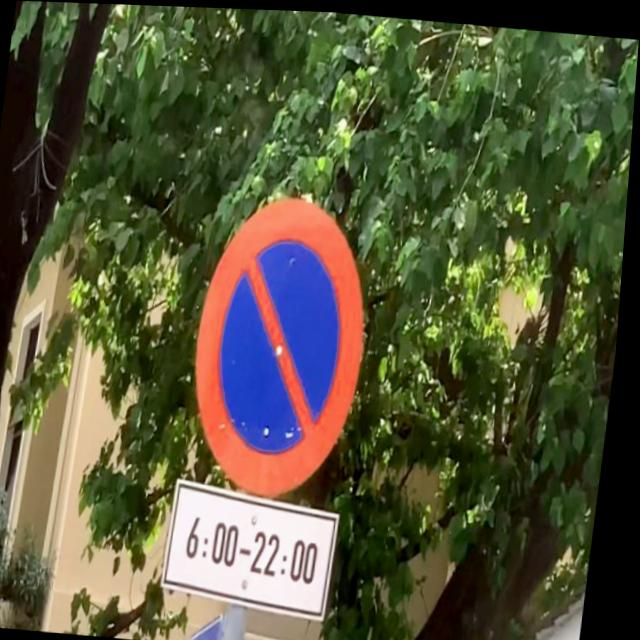Cam do xe: (184, 187, 385, 504)
